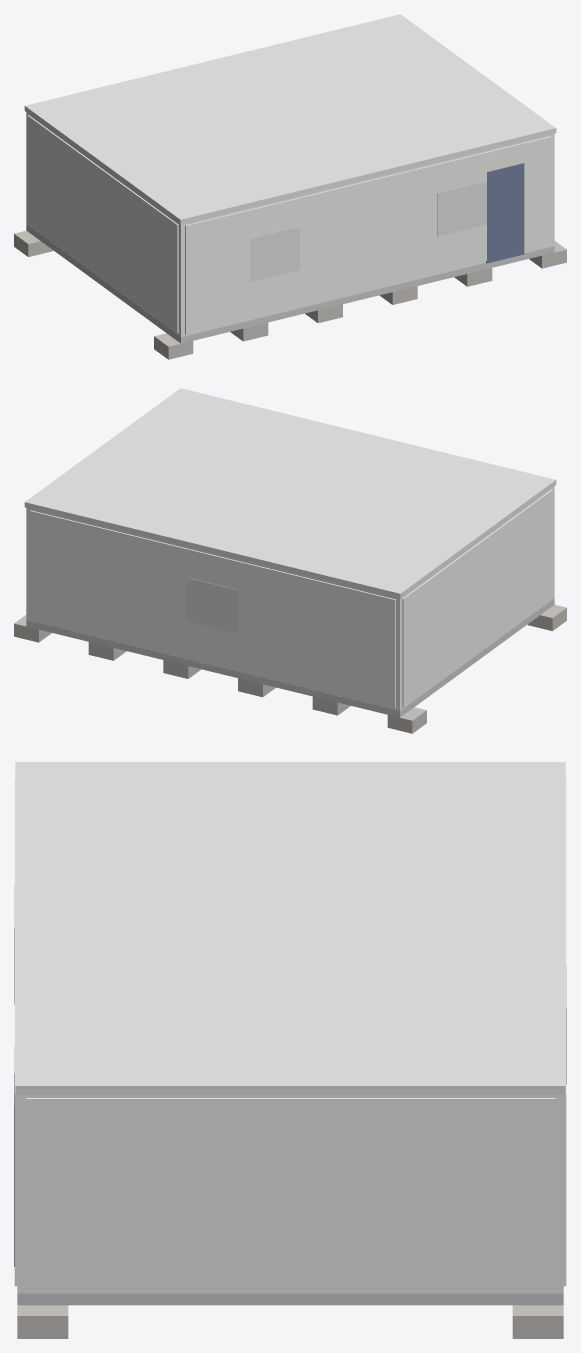
File: Studio-30-Base-LOD1.glb
The picture shows the model from 3 angles, top to bottom: view 1: azimuth 30°, elevation 25°; view 2: azimuth 150°, elevation 25°; view 3: azimuth 270°, elevation 25°; orthographic projection. The views are drawn at different scales.
Parts seen in each view (by area): view 1: RoofMain, ExteriorPanelsStandard, WindowsStandard, BaseFrame, FoundationBlocks, EntryDoor, ExteriorShell; view 2: RoofMain, ExteriorPanelsStandard, BaseFrame, FoundationBlocks, ExteriorShell, WindowsStandard; view 3: RoofMain, ExteriorPanelsStandard, BaseFrame, ExteriorShell, FoundationBlocks.
Part boxes in pixels (<box>): RoofMain: <box>24,14,556,224</box>; ExteriorPanelsStandard: <box>27,115,551,334</box>; WindowsStandard: <box>250,181,486,281</box>; BaseFrame: <box>26,224,554,343</box>; FoundationBlocks: <box>14,230,566,359</box>; EntryDoor: <box>486,163,524,263</box>; ExteriorShell: <box>26,112,554,336</box>; RoofMain: <box>24,388,556,598</box>; ExteriorPanelsStandard: <box>30,489,553,708</box>; BaseFrame: <box>26,598,554,717</box>; FoundationBlocks: <box>14,604,566,733</box>; ExteriorShell: <box>26,486,554,710</box>; WindowsStandard: <box>187,577,237,633</box>; RoofMain: <box>15,762,565,1094</box>; ExteriorPanelsStandard: <box>14,779,566,1290</box>; BaseFrame: <box>17,1293,563,1305</box>; ExteriorShell: <box>17,1095,563,1293</box>; FoundationBlocks: <box>17,1305,563,1338</box>.
Bounding box in the file's own units: 9.6 × 3.17 × 6.53.
